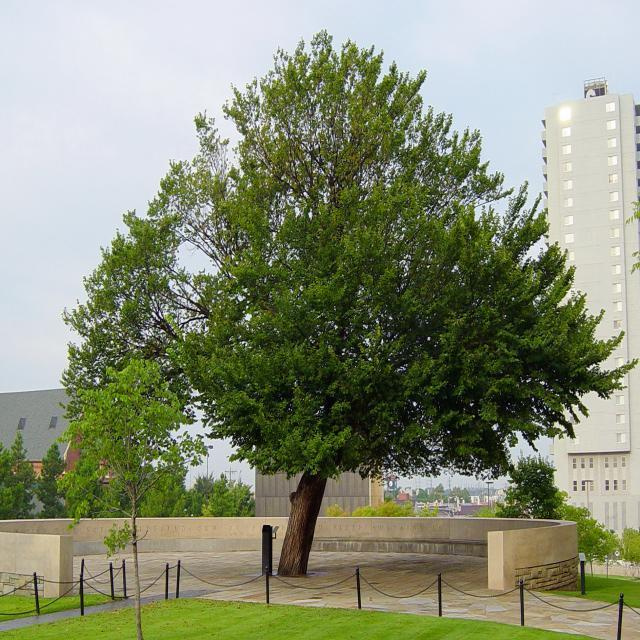tree: (63, 29, 627, 586), (58, 354, 199, 640), (118, 442, 190, 516), (503, 453, 566, 522), (188, 473, 260, 521), (0, 429, 40, 513), (62, 442, 108, 514), (40, 437, 78, 512), (324, 497, 418, 520), (562, 503, 594, 565), (577, 517, 610, 576), (598, 522, 622, 580), (619, 522, 640, 579)
